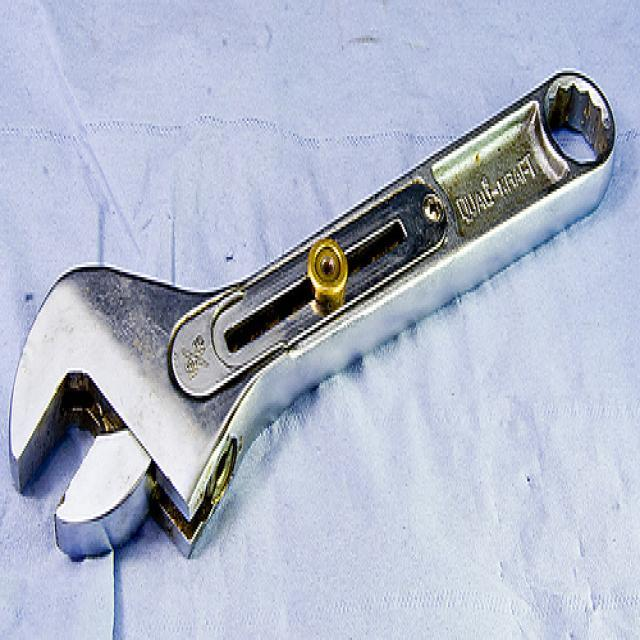wrench: (4, 63, 620, 567)
